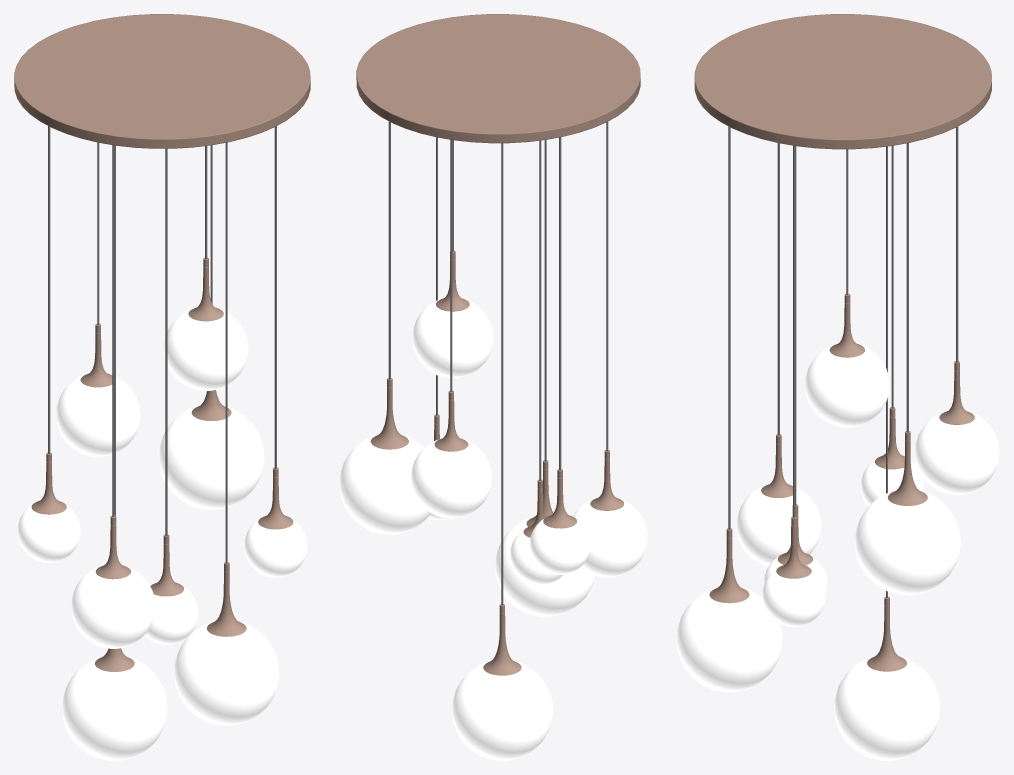
The model's file is 813093_globo_lightstar_pendant_lamp.glb.
3 views of the same model, side by side, from view 1: azimuth 30°, elevation 25°; view 2: azimuth 150°, elevation 25°; view 3: azimuth 270°, elevation 25° (orthographic). The views are drawn at different scales.
Visible parts, largest first — view 1: Cylinder010, Sphere022, Sphere029, Sphere030, Sphere025, Sphere032, Sphere031, Sphere034, Sphere033, Sphere023, Cylinder017_Metal_Chrom_Satin_gray_0, Cylinder016_Metal_Chrom_Satin_gray_0 (+14 smaller); view 2: Cylinder010, Sphere029, Sphere030, Sphere031, Sphere032, Sphere025, Sphere022, Sphere034, Cylinder015_Metal_Chrom_Satin_gray_0, Sphere023, Cylinder016_Metal_Chrom_Satin_gray_0, Cylinder019_Metal_Chrom_Satin_gray_0 (+10 smaller); view 3: Cylinder010, Sphere030, Sphere029, Sphere022, Sphere032, Sphere031, Sphere025, Sphere033, Sphere034, Cylinder017_Metal_Chrom_Satin_gray_0, Line026_Metall_Bronza_Poloski_lak_0, Line034_Metall_Bronza_Poloski_lak_0 (+13 smaller).
Boxes of the visible parts, <box> form: Cylinder010: <box>14,14,310,148</box>; Sphere022: <box>174,622,279,725</box>; Sphere029: <box>62,657,167,760</box>; Sphere030: <box>158,406,264,509</box>; Sphere025: <box>71,566,155,648</box>; Sphere032: <box>164,308,248,390</box>; Sphere031: <box>56,374,140,456</box>; Sphere034: <box>17,504,80,562</box>; Sphere033: <box>244,519,307,577</box>; Sphere023: <box>144,586,198,644</box>; Cylinder017_Metal_Chrom_Satin_gray_0: <box>225,142,227,563</box>; Cylinder016_Metal_Chrom_Satin_gray_0: <box>165,148,167,535</box>; Cylinder010: <box>356,14,640,143</box>; Sphere029: <box>451,661,552,760</box>; Sphere030: <box>339,435,430,534</box>; Sphere031: <box>411,439,491,518</box>; Sphere032: <box>412,299,493,378</box>; Sphere025: <box>573,498,647,577</box>; Sphere022: <box>495,517,595,616</box>; Sphere034: <box>529,519,590,574</box>; Cylinder015_Metal_Chrom_Satin_gray_0: <box>501,143,503,605</box>; Sphere023: <box>510,529,562,585</box>; Cylinder016_Metal_Chrom_Satin_gray_0: <box>539,140,541,480</box>; Cylinder019_Metal_Chrom_Satin_gray_0: <box>559,137,561,470</box>; Cylinder010: <box>694,14,991,149</box>; Sphere030: <box>854,491,960,595</box>; Sphere029: <box>834,656,940,760</box>; Sphere022: <box>676,588,782,692</box>; Sphere032: <box>805,344,889,427</box>; Sphere031: <box>914,412,999,494</box>; Sphere025: <box>736,485,821,566</box>; Sphere033: <box>762,568,825,627</box>; Sphere034: <box>860,459,924,506</box>; Cylinder017_Metal_Chrom_Satin_gray_0: <box>728,126,730,529</box>; Line026_Metall_Bronza_Poloski_lak_0: <box>709,528,749,603</box>; Line034_Metall_Bronza_Poloski_lak_0: <box>887,431,927,505</box>.
Bounding box in the file's own units: 1.01 × 2.6 × 1.1.
